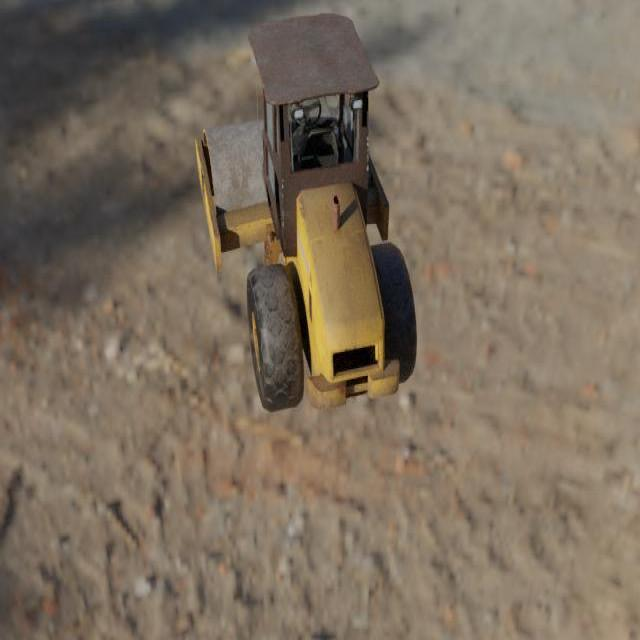Roller: (195, 12, 417, 412)
